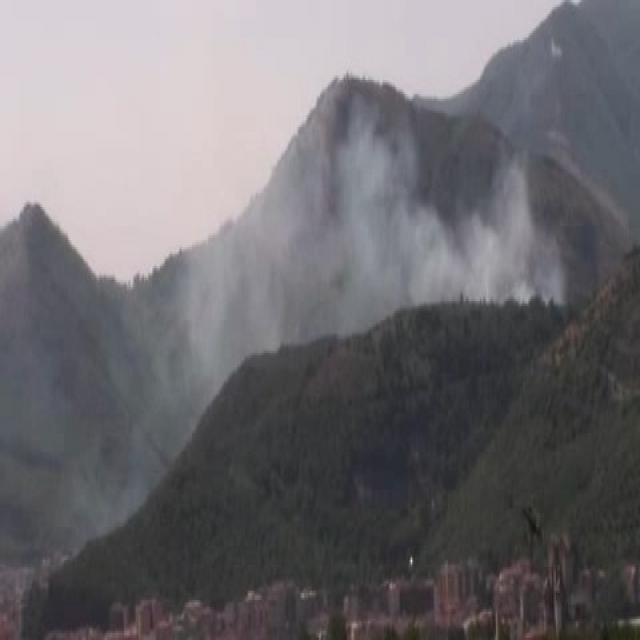smoke: (332, 95, 524, 308), (91, 240, 239, 420)
